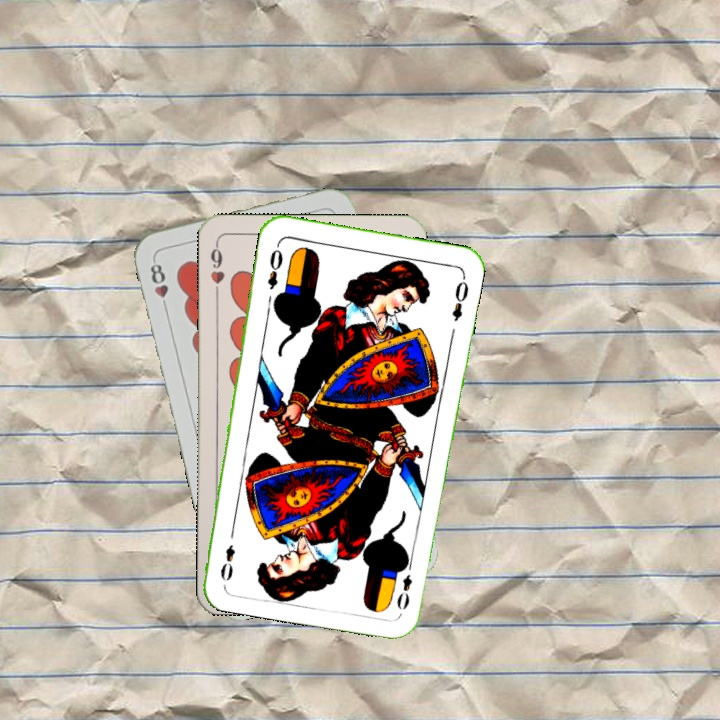EO: (393, 556, 415, 613), (263, 239, 285, 292)
H8: (146, 255, 171, 314)
H9: (206, 239, 227, 298)
